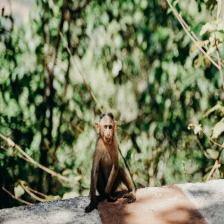monkey: (88, 104, 134, 214)
